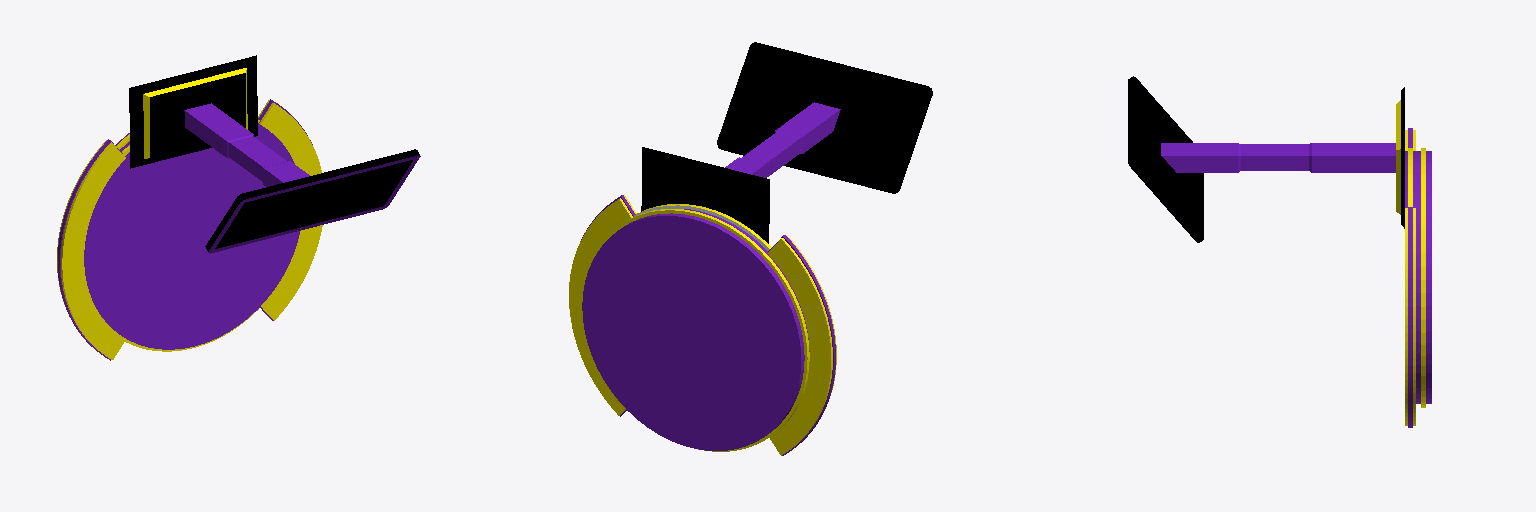
Rendered from TimeConsole.obj.
3 views of the same model, side by side, from view 1: azimuth 30°, elevation 25°; view 2: azimuth 150°, elevation 25°; view 3: azimuth 270°, elevation 25° (orthographic).
Parts seen in each view (by area): view 1: Object.8, Object.1, Object.6, Object.7, Object.4; view 2: Object.8, Object.1, Object.6, Object.7, Object.2, Object.4, Object.5; view 3: Object.1, Object.8, Object.7, Object.2, Object.3.
Boxes of the visible parts, x1=… form: Object.8: x1=84, y1=124, x2=299, y2=349; Object.1: x1=129, y1=55, x2=420, y2=253; Object.6: x1=57, y1=140, x2=125, y2=359; Object.7: x1=258, y1=100, x2=322, y2=320; Object.4: x1=58, y1=139, x2=122, y2=360; Object.8: x1=582, y1=209, x2=809, y2=450; Object.1: x1=641, y1=42, x2=932, y2=243; Object.6: x1=768, y1=235, x2=836, y2=455; Object.7: x1=569, y1=195, x2=636, y2=415; Object.2: x1=583, y1=209, x2=809, y2=451; Object.4: x1=768, y1=235, x2=835, y2=455; Object.5: x1=634, y1=204, x2=771, y2=250; Object.1: x1=1128, y1=76, x2=1404, y2=242; Object.8: x1=1405, y1=151, x2=1431, y2=403; Object.7: x1=1405, y1=208, x2=1415, y2=425; Object.2: x1=1421, y1=148, x2=1425, y2=407; Object.3: x1=1408, y1=207, x2=1412, y2=427.
Bounding box in the file's own units: 68.34 × 68.92 × 68.15.